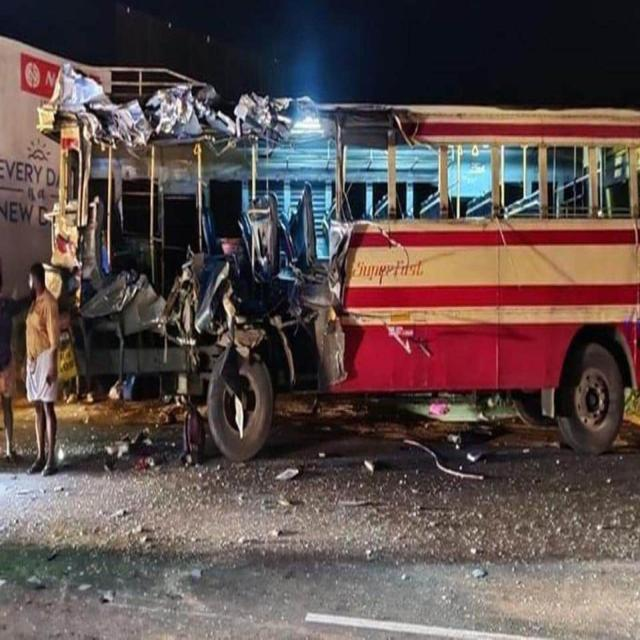accident: (39, 64, 640, 460)
